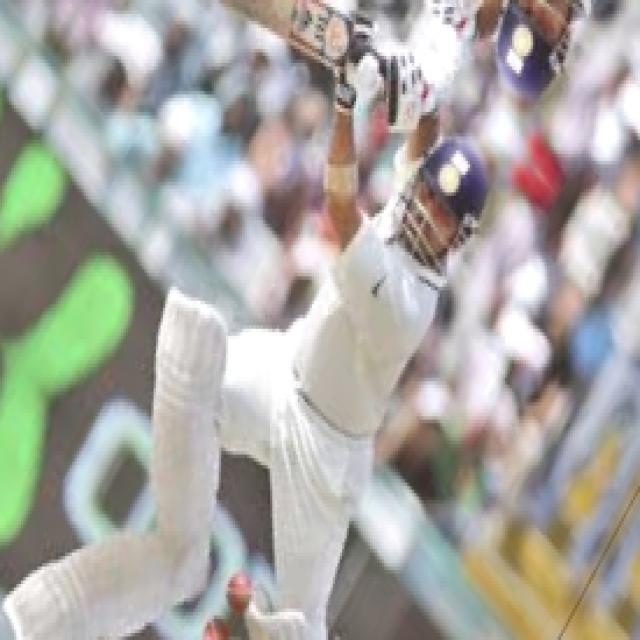bat: (206, 0, 343, 57)
